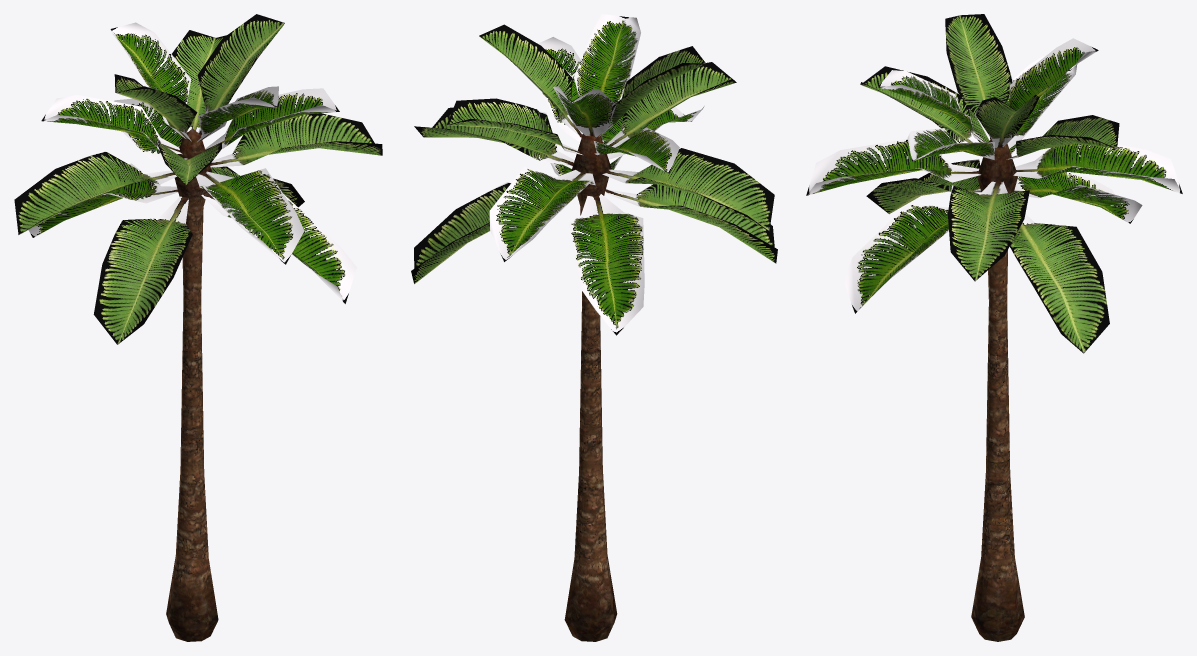
Rendered from alphapalm.gltf.
3 renders of one model, left to right at view 1: azimuth 30°, elevation 25°; view 2: azimuth 150°, elevation 25°; view 3: azimuth 270°, elevation 25°, orthographic.
Visible parts, largest first — view 1: object 2, Palm; view 2: object 2, Palm; view 3: object 2, Palm.
Boxes of the visible parts, left/top/right/bottom form: object 2: left=14, top=14, right=382, bottom=344; Palm: left=166, top=128, right=218, bottom=641; object 2: left=411, top=14, right=777, bottom=335; Palm: left=564, top=134, right=617, bottom=641; object 2: left=806, top=14, right=1182, bottom=353; Palm: left=971, top=139, right=1024, bottom=641.
Size of the model in its own units: 9.01 by 14.23 by 8.39.
2 materials, 2 textured.
